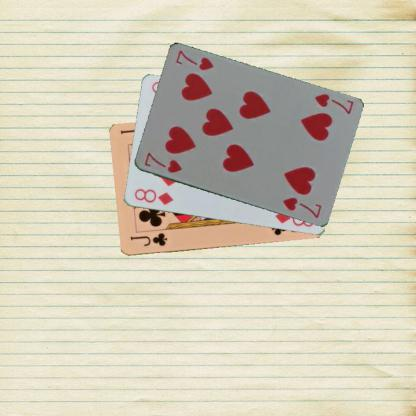7h: (312, 91, 354, 116), (142, 150, 183, 174)
8d: (132, 186, 174, 207)
Jc: (128, 230, 168, 248)
